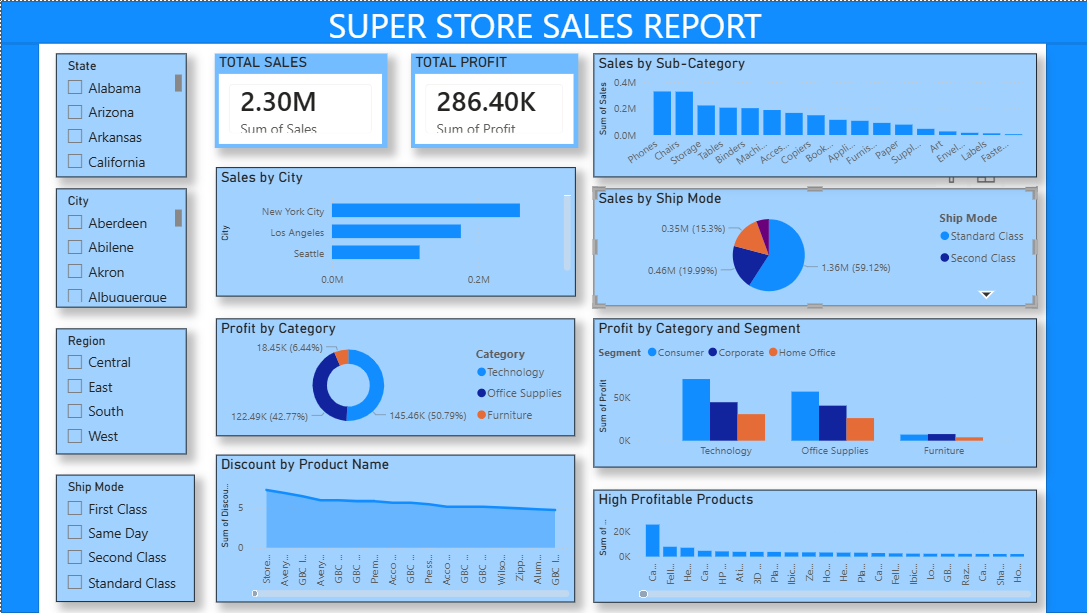

The dashboard page shown, as its layout file describes it:
{"tool":"powerbi","page":{"name":"Page 1","canvas":[1280,720],"ordinal":0},"visuals":[{"type":"shape","box":[0,0,1280,50],"z":0},{"type":"shape","box":[1230,50,50,670],"z":1000},{"type":"shape","box":[0,50,45,670],"z":2000},{"type":"pieChart","title":" Sales by Ship Mode","fields":{"Y":["Sum(Cleaned Data.Sales)"],"Category":["Cleaned Data.Ship Mode"]},"box":[696.5,221.3,521.3,138.5],"z":3000},{"type":"clusteredColumnChart","title":" Profit by Category and Segment","fields":{"Y":["Sum(Cleaned Data.Profit)"],"Category":["Cleaned Data.Category"],"Series":["Cleaned Data.Segment"]},"box":[696.5,373.4,521.3,175.1],"z":4000},{"type":"clusteredBarChart","title":" Sales by City","fields":{"Category":["Cleaned Data.City"],"Y":["Sum(Cleaned Data.Sales)"]},"box":[252.5,195.5,423.6,152.1],"z":5000},{"type":"clusteredColumnChart","title":"Sales by Sub-Category","fields":{"Category":["Cleaned Data.Sub-Category"],"Y":["Sum(Cleaned Data.Sales)"]},"box":[696.5,62.5,521.3,145.3],"z":6000},{"type":"donutChart","title":" Profit by Category","fields":{"Y":["Sum(Cleaned Data.Profit)"],"Category":["Cleaned Data.Category"]},"box":[252.5,373.4,422.2,138.5],"z":7000},{"type":"slicer","fields":{"Values":["Cleaned Data.Region"]},"box":[65.2,385.6,153.4,148],"z":8000},{"type":"cardVisual","title":"TOTAL SALES","fields":{"Data":["Sum(Cleaned Data.Sales)"]},"box":[251.9,62.4,203,111.3],"z":9000},{"type":"cardVisual","title":"TOTAL PROFIT","fields":{"Data":["Sum(Cleaned Data.Profit)"]},"box":[483,62.4,196.9,111.3],"z":10000},{"type":"slicer","fields":{"Values":["Cleaned Data.Ship Mode"]},"box":[65.2,558,162.9,149.3],"z":11000},{"type":"slicer","fields":{"Values":["Cleaned Data.State"]},"box":[65.2,62.5,153.4,145.3],"z":12000},{"type":"slicer","fields":{"Values":["Cleaned Data.City"]},"box":[65.2,219.9,153.4,139.8],"z":13000},{"type":"areaChart","fields":{"Category":["Cleaned Data.Product Name"],"Y":["Sum(Cleaned Data.Discount)"]},"box":[252.5,533.6,422.2,173.8],"z":14000},{"type":"columnChart","title":"High Profitable Products","fields":{"Category":["Cleaned Data.Product Name"],"Y":["Sum(Cleaned Data.Profit)"]},"box":[696.5,574.3,521.3,133.1],"z":15000}]}

Visuals, with their boxes in screenshot pixels (x1, y1, x2, y2), scaled from the page's 1280x720 canvas onto the 1087x613 screenshot:
shape: BBox(0, 0, 1086, 43)
shape: BBox(1045, 43, 1086, 612)
shape: BBox(0, 43, 38, 612)
" Sales by Ship Mode" pieChart: BBox(591, 188, 1034, 306)
" Profit by Category and Segment" clusteredColumnChart: BBox(591, 318, 1034, 467)
" Sales by City" clusteredBarChart: BBox(214, 166, 574, 296)
"Sales by Sub-Category" clusteredColumnChart: BBox(591, 53, 1034, 177)
" Profit by Category" donutChart: BBox(214, 318, 573, 436)
slicer - Cleaned Data.Region: BBox(55, 328, 186, 454)
"TOTAL SALES" cardVisual: BBox(214, 53, 386, 148)
"TOTAL PROFIT" cardVisual: BBox(410, 53, 577, 148)
slicer - Cleaned Data.Ship Mode: BBox(55, 475, 194, 602)
slicer - Cleaned Data.State: BBox(55, 53, 186, 177)
slicer - Cleaned Data.City: BBox(55, 187, 186, 306)
areaChart - Cleaned Data.Product Name x Sum(Cleaned Data.Discount): BBox(214, 454, 573, 602)
"High Profitable Products" columnChart: BBox(591, 489, 1034, 602)
